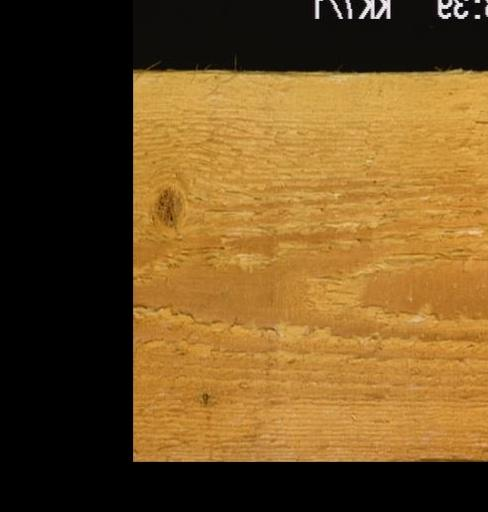small_knot: (195, 388, 212, 408)
sound_knot: (150, 184, 187, 231)
